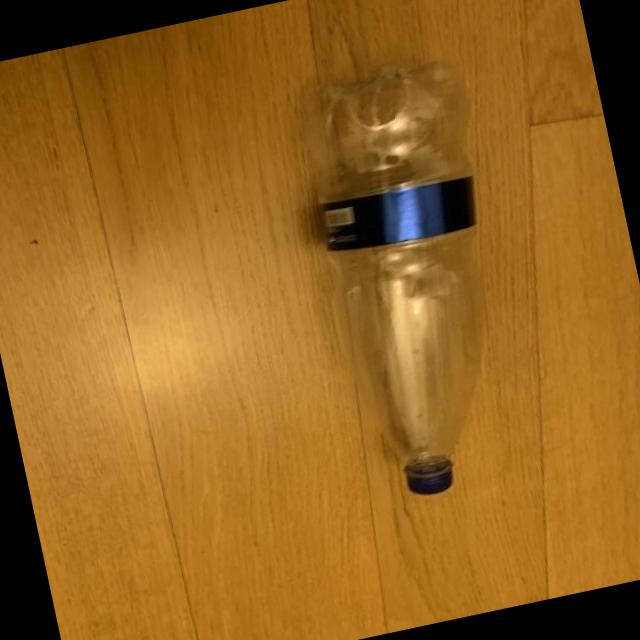plastic_bottle: (286, 50, 548, 516)
